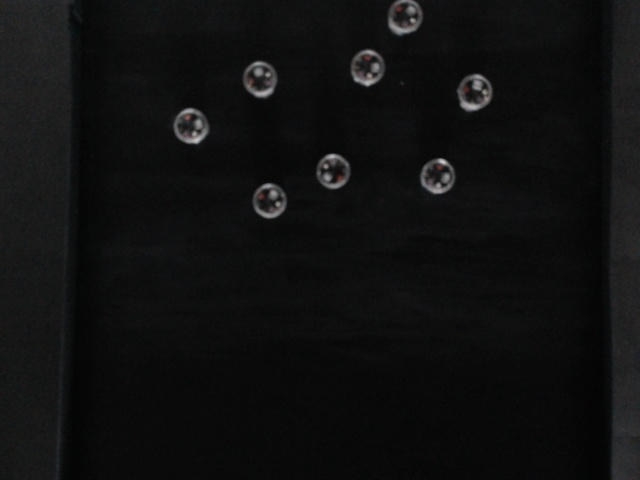epuck_2: (419, 154, 457, 197), (456, 72, 493, 113), (250, 181, 288, 220), (315, 148, 350, 190), (173, 106, 210, 145), (349, 49, 387, 86), (387, 1, 426, 37), (244, 60, 276, 99)
